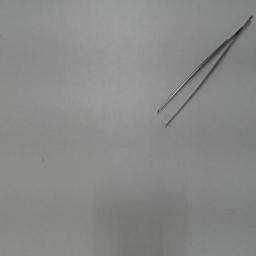Gillies Toothed Dissector: (152, 10, 254, 130)
